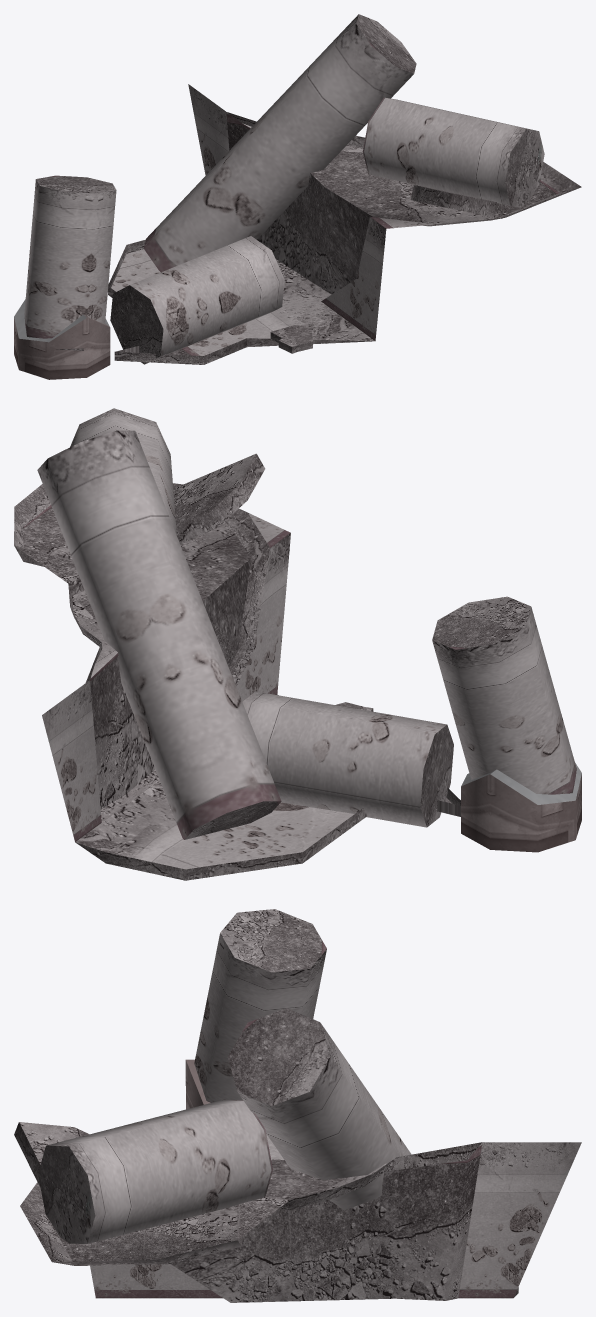
File: Cor1_prop_Grand_hall_rubble_2.fbx
3 views of the same model, one above another, from view 1: azimuth 30°, elevation 25°; view 2: azimuth 150°, elevation 25°; view 3: azimuth 270°, elevation 25° (orthographic). The views are drawn at different scales.
Visible parts, largest first — view 1: rubble_2, polymsh_detached66, polymsh_detached67, polymsh_detached65, polymsh_detached68, polymsh1312, polymsh_extracted321, polymsh_extracted322; view 2: rubble_2, polymsh_detached66, polymsh_detached65, polymsh_detached68, polymsh1312, polymsh_extracted321, polymsh_detached67; view 3: rubble_2, polymsh_detached67, polymsh_detached66, polymsh_detached68, polymsh_extracted321, polymsh1312.
Boxes of the visible parts, x1,y1,x2,y2 form: rubble_2: (108, 84, 581, 364); polymsh_detached66: (143, 14, 416, 272); polymsh_detached67: (363, 97, 544, 207); polymsh_detached65: (110, 236, 284, 364); polymsh_detached68: (24, 175, 116, 350); polymsh1312: (14, 299, 110, 379); polymsh_extracted321: (410, 185, 504, 218); polymsh_extracted322: (270, 325, 312, 353); rubble_2: (14, 483, 460, 880); polymsh_detached66: (37, 430, 281, 839); polymsh_detached65: (242, 691, 453, 827); polymsh_detached68: (432, 596, 576, 794); polymsh1312: (461, 762, 581, 852); polymsh_extracted321: (173, 453, 265, 544); polymsh_detached67: (70, 408, 176, 535); rubble_2: (20, 1142, 581, 1302); polymsh_detached67: (38, 1099, 272, 1243); polymsh_detached66: (227, 1008, 411, 1210); polymsh_detached68: (194, 909, 326, 1102); polymsh_extracted321: (14, 1122, 89, 1187); polymsh1312: (185, 1059, 210, 1109).
Size of what is drawn, in the model's own units: 16.91 by 8.92 by 13.18.
